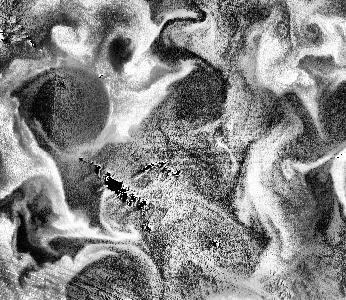AE: (11, 67, 118, 162)
CE: (298, 10, 334, 47)
